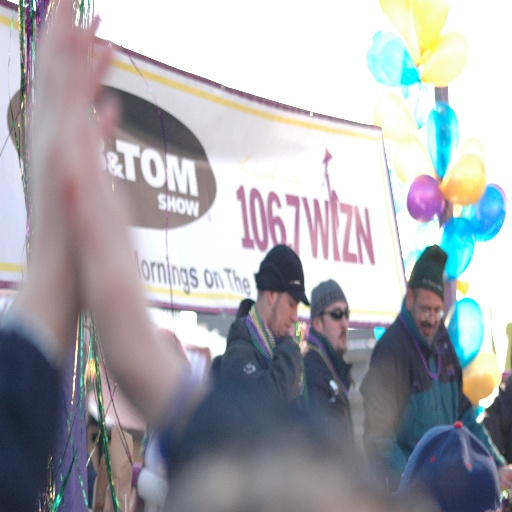hand: (58, 39, 153, 394), (29, 0, 121, 299), (498, 463, 511, 489)
